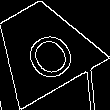O_NW: (10, 15, 75, 80)
